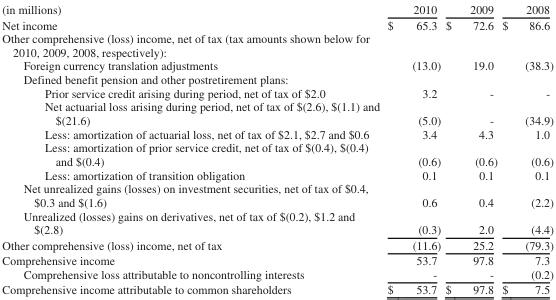table: (1, 0, 553, 296)
table column: (1, 0, 382, 296), (382, 0, 442, 296), (442, 0, 499, 296), (499, 0, 553, 296)
table column header: (1, 0, 553, 16)
table projected row header: (1, 30, 553, 58), (1, 71, 553, 85)
table row: (1, 30, 553, 58), (1, 208, 553, 236), (1, 99, 553, 126), (1, 140, 553, 167), (1, 181, 553, 208), (1, 0, 553, 16), (1, 236, 553, 251), (1, 251, 553, 266), (1, 266, 553, 281), (1, 281, 553, 296), (1, 16, 553, 30), (1, 71, 553, 85), (1, 85, 553, 99), (1, 126, 553, 140), (1, 167, 553, 181), (1, 58, 553, 71)
